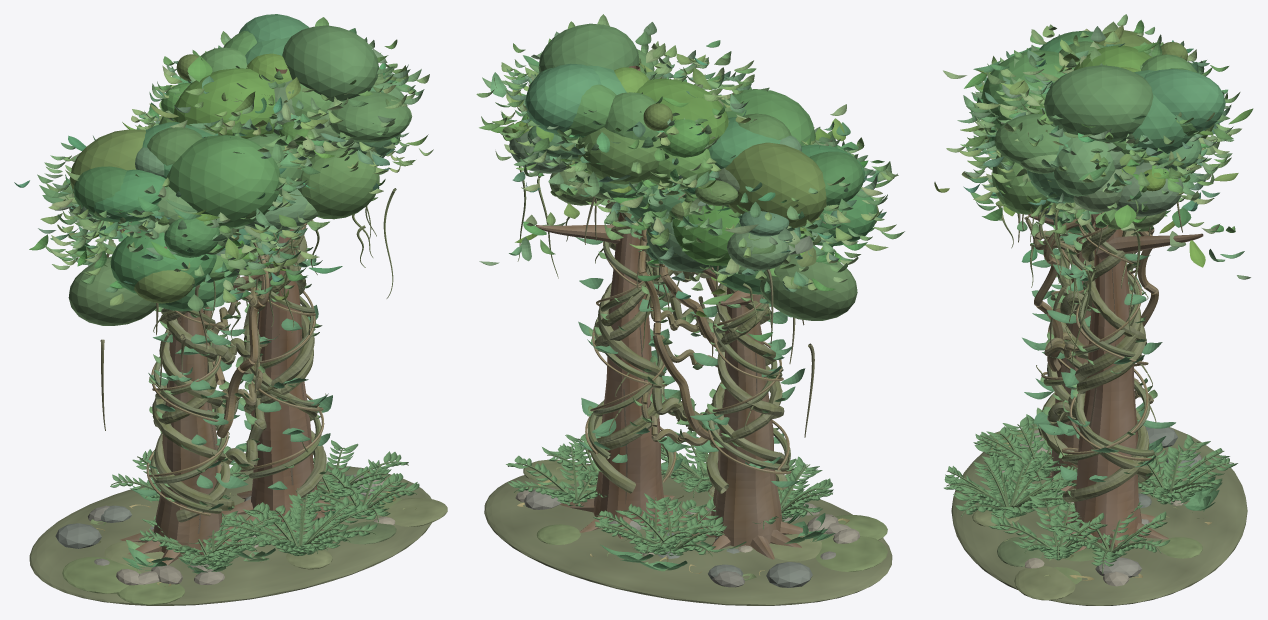
File: rainforest_twined_trees.glb
The picture shows the model from 3 angles, left to right: view 1: azimuth 30°, elevation 25°; view 2: azimuth 150°, elevation 25°; view 3: azimuth 270°, elevation 25°; orthographic projection. The views are drawn at different scales.
Visible parts, largest first — view 1: rainforest_twined_trees; view 2: rainforest_twined_trees; view 3: rainforest_twined_trees.
Boxes of the visible parts, x1,y1,x2,y2 form: rainforest_twined_trees: (14, 14, 447, 605); rainforest_twined_trees: (476, 14, 904, 605); rainforest_twined_trees: (934, 14, 1253, 605).
Bounding box in the file's own units: 7.04 × 8.49 × 4.92.
